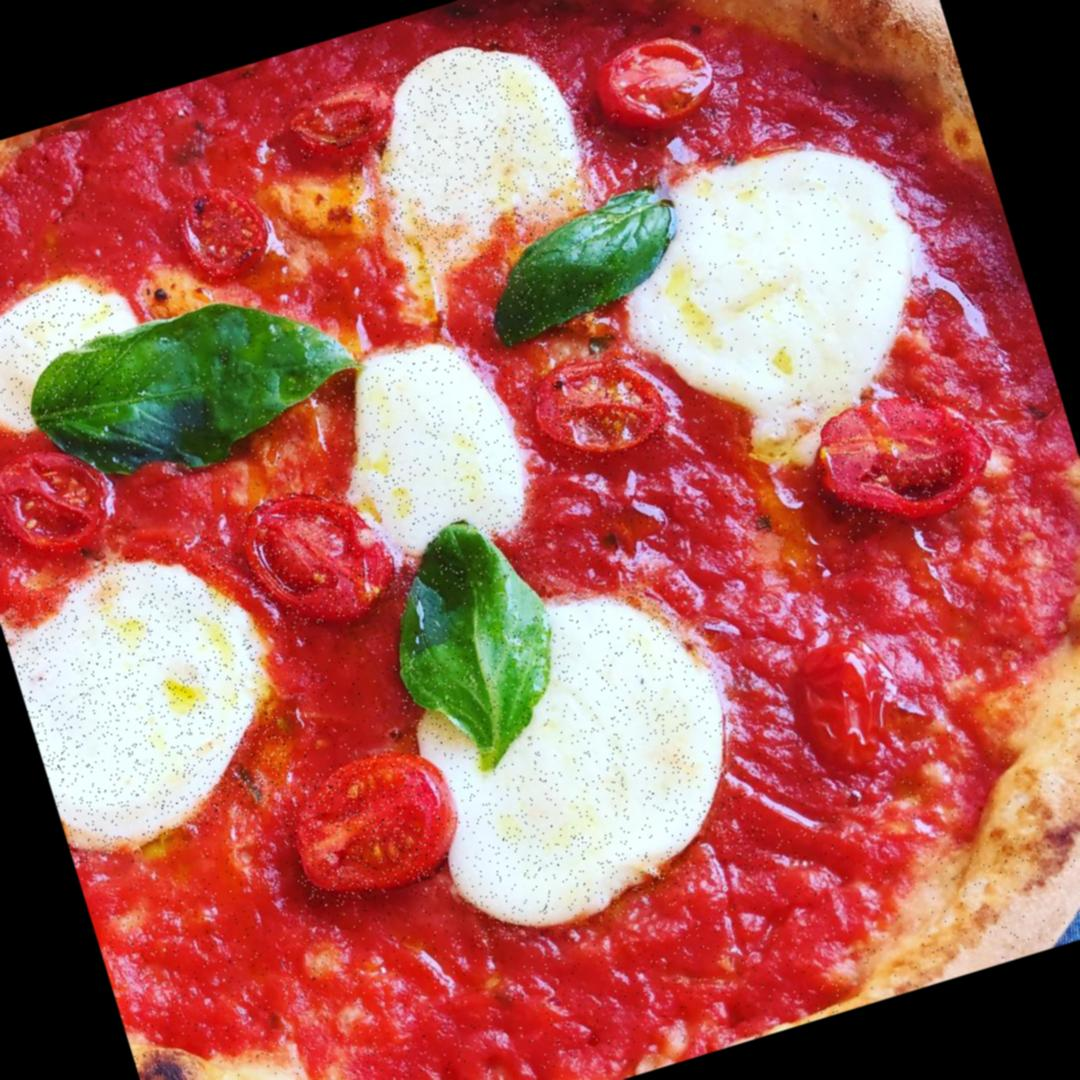Basil: (21, 270, 374, 504), (368, 506, 576, 774), (470, 182, 690, 348)
Cheese: (387, 570, 776, 956), (599, 100, 948, 462), (0, 525, 304, 867), (320, 14, 618, 288), (302, 312, 570, 616), (0, 264, 146, 446)
Pizza: (0, 0, 1080, 1080)
Tomatoes: (274, 736, 471, 914), (815, 369, 999, 534), (234, 471, 407, 638), (524, 340, 680, 476), (786, 633, 908, 787), (582, 17, 728, 136), (0, 433, 130, 564), (286, 73, 406, 169), (173, 174, 278, 280)
